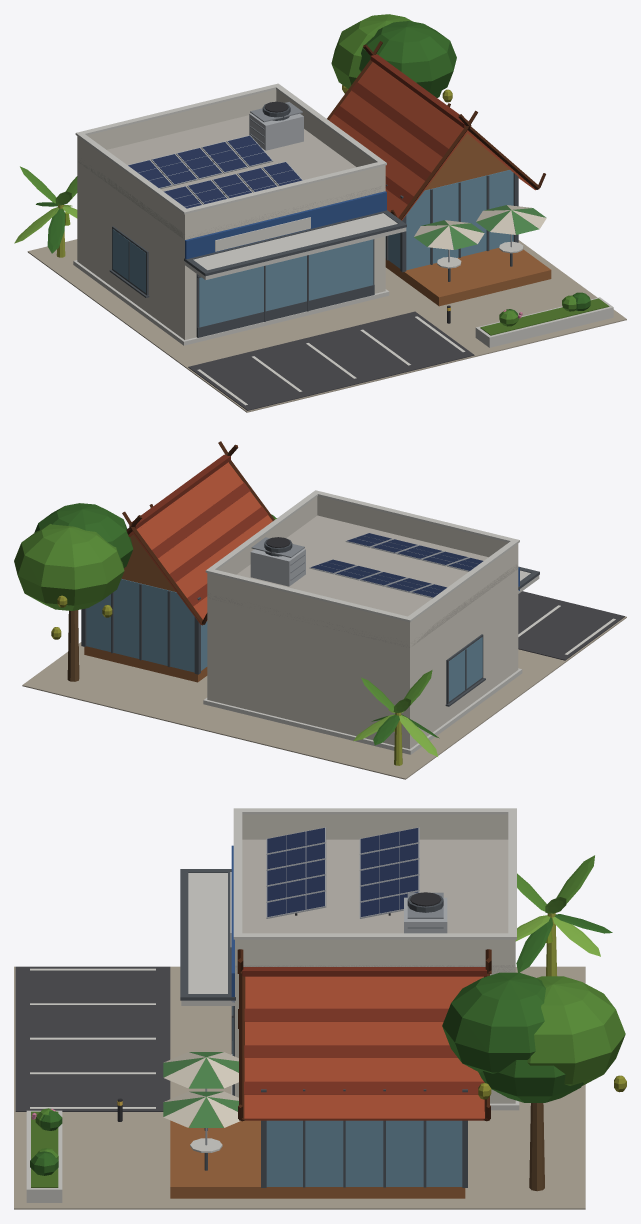
Rendered from shop_1.glb.
3 views of the same model, one above another, from view 1: azimuth 30°, elevation 25°; view 2: azimuth 150°, elevation 25°; view 3: azimuth 270°, elevation 25° (orthographic). The views are drawn at different scales.
Parts seen in each view (by area): view 1: body; view 2: body; view 3: body.
Boxes of the visible parts, box(x1,y1,x2,y2) form: body: box(14, 14, 626, 412); body: box(14, 441, 626, 779); body: box(14, 808, 626, 1209).
Bounding box in the file's own units: 17.44 × 6.49 × 17.05.
